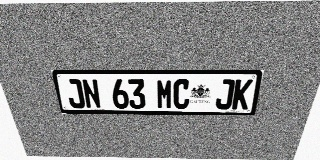3: (128, 79, 145, 109)
6: (110, 79, 129, 109)
C: (173, 79, 190, 109)
J: (64, 79, 86, 108), (215, 79, 235, 109)
K: (231, 79, 253, 109)
M: (156, 79, 173, 109)
N: (81, 79, 102, 108)
